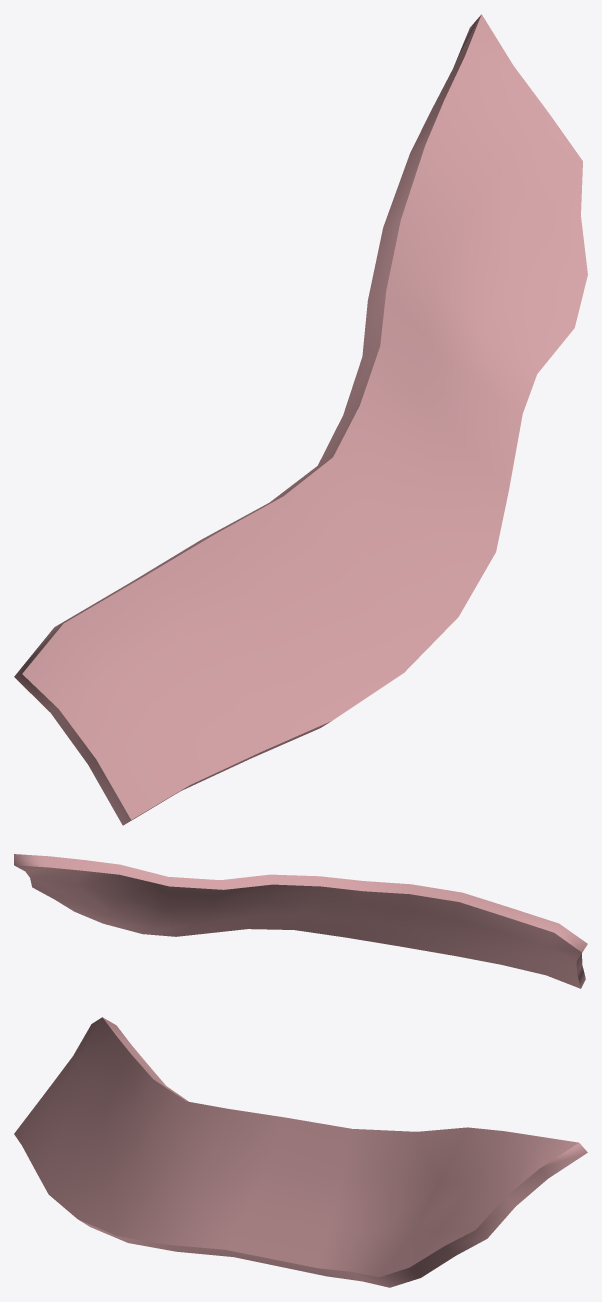
3 views of the same model, one above another, from view 1: azimuth 30°, elevation 25°; view 2: azimuth 150°, elevation 25°; view 3: azimuth 270°, elevation 25° (orthographic). The views are drawn at different scales.
Parts seen in each view (by area): view 1: ZA_6c5225dbf37335bd; view 2: ZA_6c5225dbf37335bd; view 3: ZA_6c5225dbf37335bd.
Boxes of the visible parts, left/top/right/bottom form: ZA_6c5225dbf37335bd: left=14, top=14, right=587, bottom=825; ZA_6c5225dbf37335bd: left=14, top=854, right=587, bottom=988; ZA_6c5225dbf37335bd: left=14, top=1017, right=587, bottom=1287.
Size of the model in its own units: 0.1256 by 0.0524 by 0.1031.
